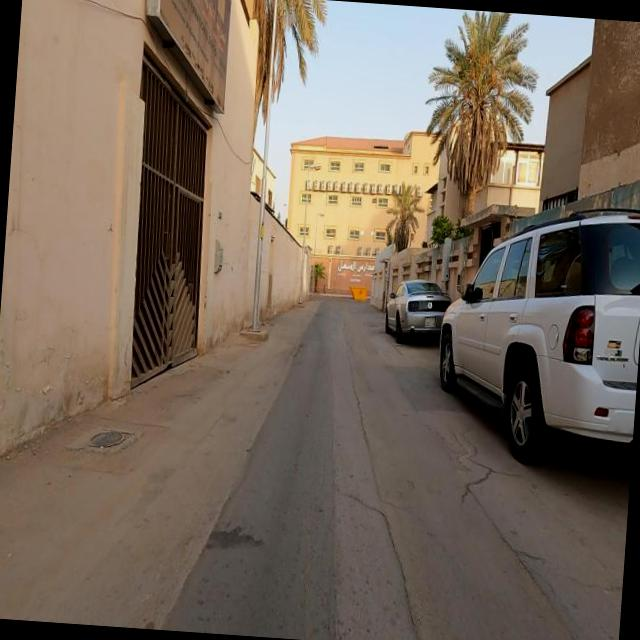debris: (331, 272, 384, 322)
